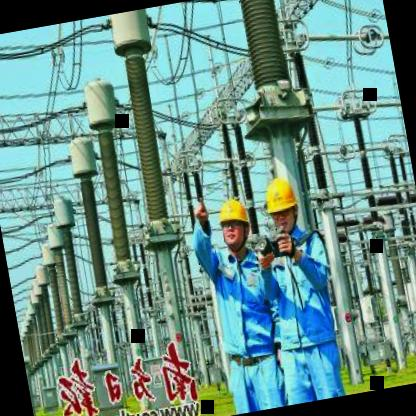helmet: (256, 166, 305, 238), (212, 192, 258, 256)
